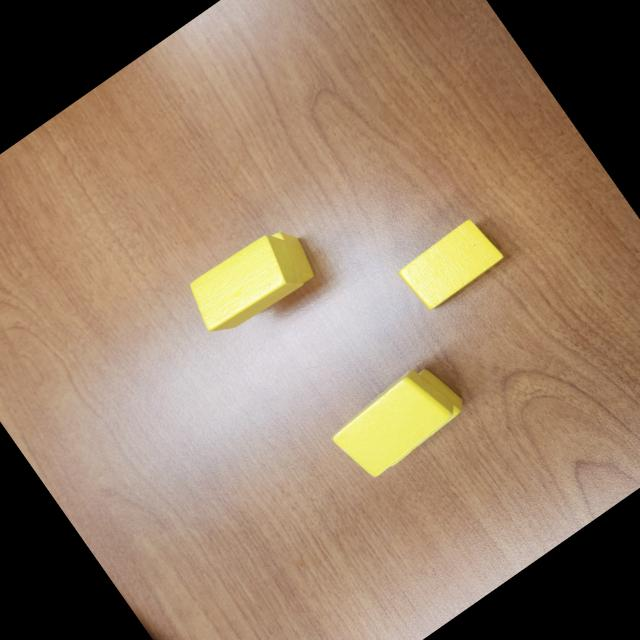yellow: (323, 358, 464, 486), (180, 222, 314, 344), (348, 357, 474, 471), (392, 212, 506, 314), (219, 220, 324, 320)
